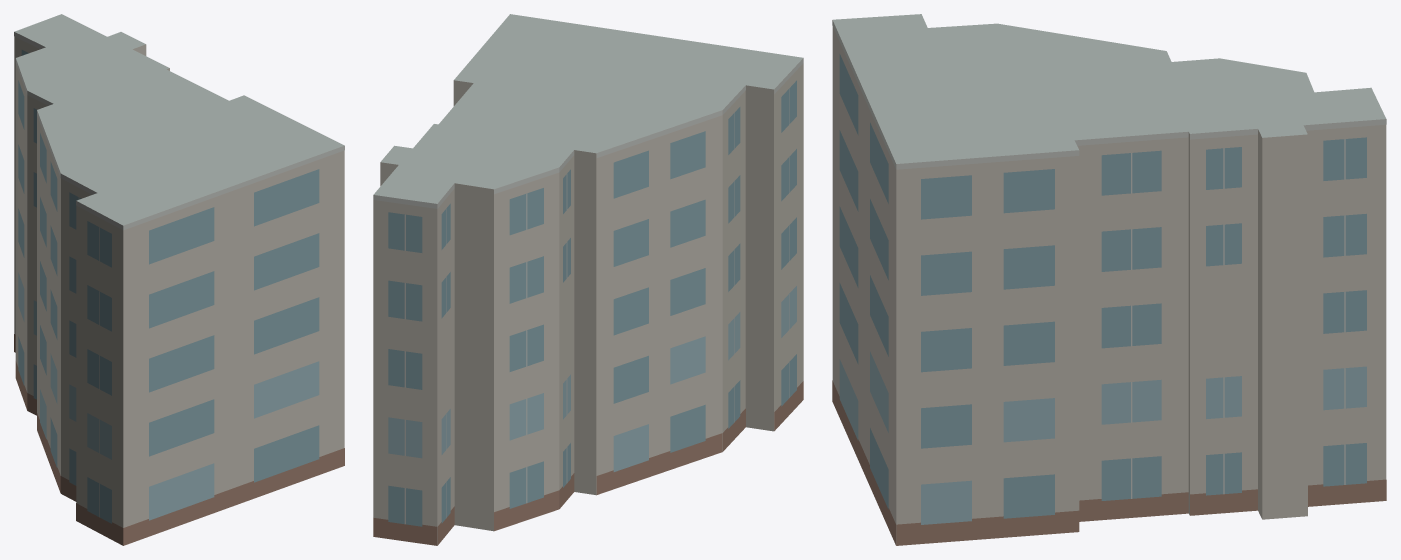
The model's file is survey-upis-32476199.glb.
3 renders of one model, left to right at view 1: azimuth 30°, elevation 25°; view 2: azimuth 150°, elevation 25°; view 3: azimuth 270°, elevation 25°, orthographic. The views are drawn at different scales.
Visible parts, largest first — view 1: survey-upis-32476199.tmp; view 2: survey-upis-32476199.tmp; view 3: survey-upis-32476199.tmp.
Boxes of the visible parts, x1,y1,x2,y2 form: survey-upis-32476199.tmp: (14, 14, 344, 545); survey-upis-32476199.tmp: (373, 14, 803, 545); survey-upis-32476199.tmp: (832, 14, 1386, 545).
Size of the model in its own units: 13.92 by 16.5 by 21.71.
